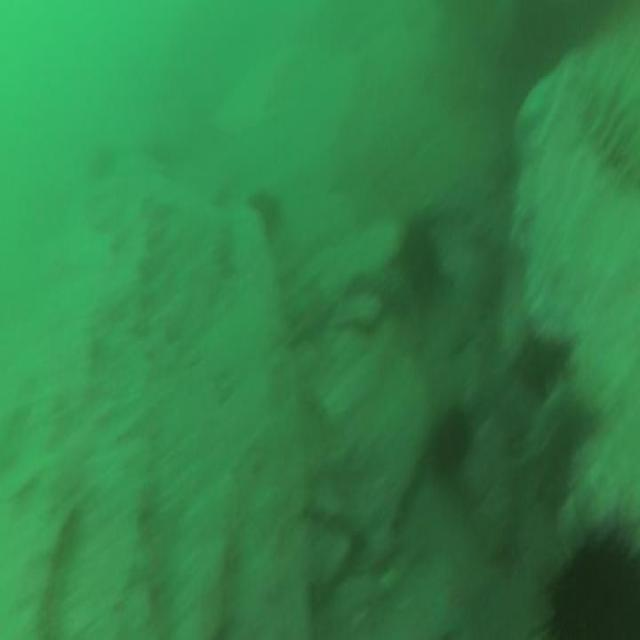echinus: (536, 505, 640, 640), (396, 213, 450, 305), (431, 390, 475, 482), (248, 183, 280, 240)
